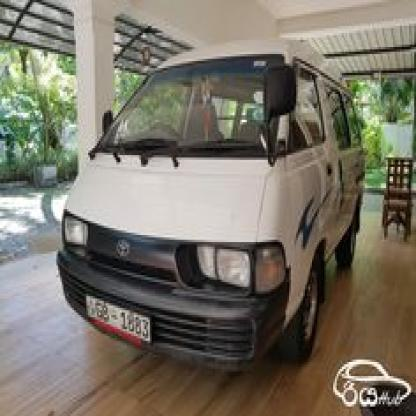number plate: (83, 298, 151, 342)
van back: (55, 41, 364, 366)
